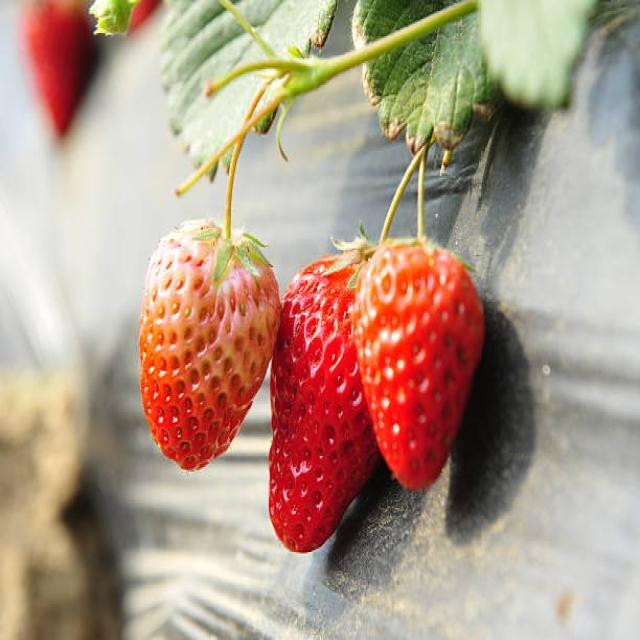Healthy Fruit: (140, 223, 283, 471), (268, 255, 379, 553), (354, 239, 481, 493)
